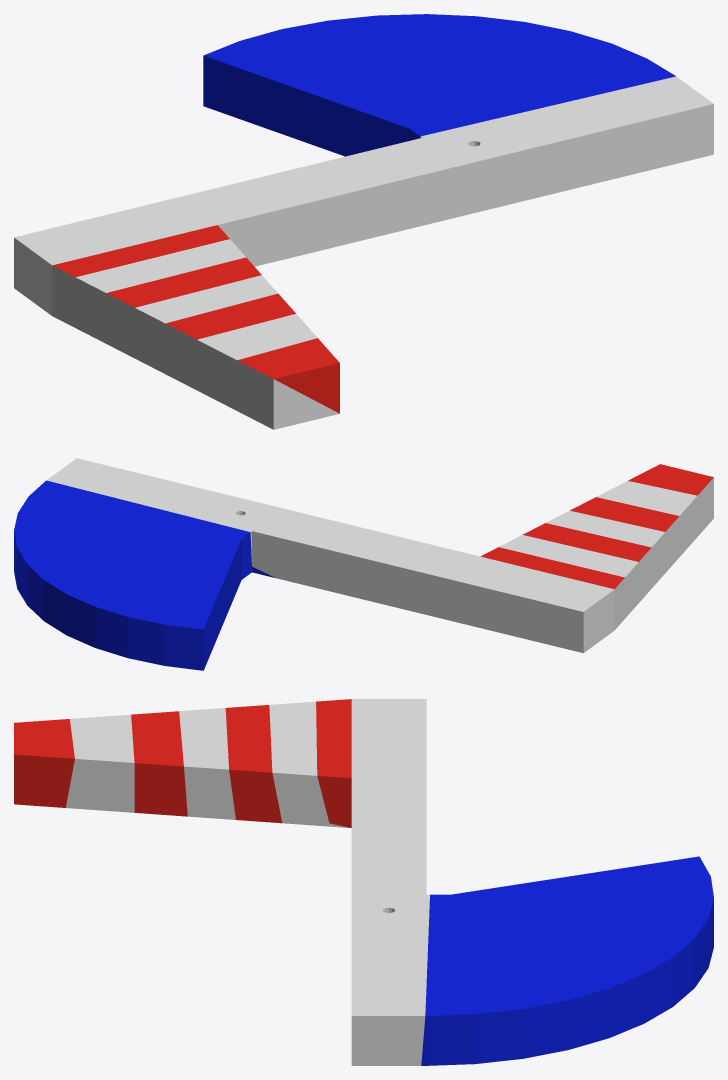
Rendered from manchon_bleu.dae.
The picture shows the model from 3 angles, top to bottom: view 1: azimuth 30°, elevation 25°; view 2: azimuth 150°, elevation 25°; view 3: azimuth 270°, elevation 25°; orthographic projection. The views are drawn at different scales.
Visible parts, largest first — view 1: Manchon Bleu, Manchon Bleu.001, Manchon Bleu.002, Manchon Bleu.007, Manchon Bleu.006, Manchon Bleu.008, Manchon Bleu.005, Manchon Bleu.003, Manchon Bleu.004; view 2: Manchon Bleu, Manchon Bleu.001, Manchon Bleu.007, Manchon Bleu.006, Manchon Bleu.008, Manchon Bleu.005, Manchon Bleu.003, Manchon Bleu.004, Manchon Bleu.002; view 3: Manchon Bleu.001, Manchon Bleu, Manchon Bleu.003, Manchon Bleu.007, Manchon Bleu.004, Manchon Bleu.006, Manchon Bleu.005, Manchon Bleu.002, Manchon Bleu.008.
Boxes of the visible parts, x1,y1,x2,y2 form: Manchon Bleu: (14, 76, 713, 429); Manchon Bleu.001: (203, 14, 675, 156); Manchon Bleu.002: (237, 338, 339, 413); Manchon Bleu.007: (76, 239, 245, 292); Manchon Bleu.006: (106, 257, 261, 307); Manchon Bleu.008: (52, 225, 229, 277); Manchon Bleu.005: (135, 275, 277, 323); Manchon Bleu.003: (197, 314, 317, 360); Manchon Bleu.004: (165, 293, 295, 339); Manchon Bleu: (46, 458, 713, 653); Manchon Bleu.001: (14, 480, 275, 670); Manchon Bleu.007: (499, 535, 638, 577); Manchon Bleu.006: (522, 523, 651, 561); Manchon Bleu.008: (480, 547, 624, 589); Manchon Bleu.005: (546, 510, 664, 547); Manchon Bleu.003: (596, 481, 696, 515); Manchon Bleu.004: (570, 497, 679, 531); Manchon Bleu.002: (628, 464, 713, 495); Manchon Bleu.001: (421, 856, 713, 1065); Manchon Bleu: (351, 699, 429, 1065); Manchon Bleu.003: (66, 714, 134, 812); Manchon Bleu.007: (269, 701, 349, 827); Manchon Bleu.004: (131, 711, 187, 816); Manchon Bleu.006: (225, 705, 282, 823); Manchon Bleu.005: (179, 708, 235, 819); Manchon Bleu.002: (14, 719, 74, 807); Manchon Bleu.008: (316, 699, 351, 827).
Bounding box in the file's own units: 0.3 × 0.28 × 0.022.
